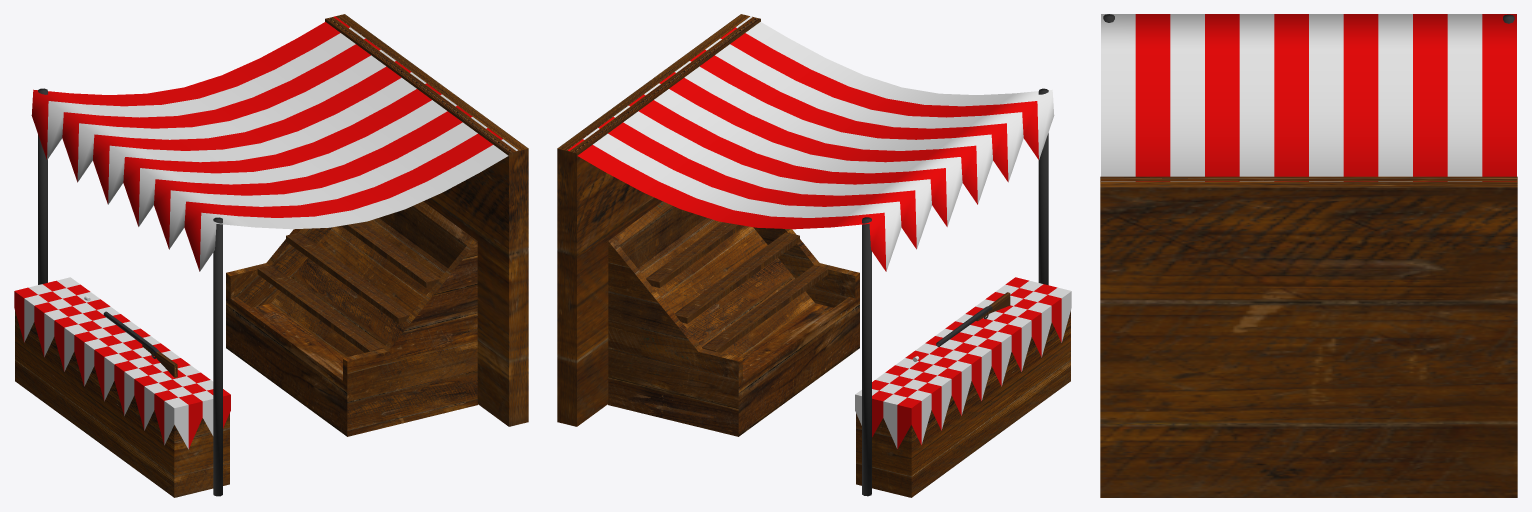
Rendered from CorkGunStand.fbx.
The picture shows the model from 3 angles, left to right: view 1: azimuth 30°, elevation 25°; view 2: azimuth 150°, elevation 25°; view 3: azimuth 270°, elevation 25°; orthographic projection. The views are drawn at different scales.
Parts seen in each view (by area): view 1: tarp, Prize stand, Booth backboard, Counter tablecloth, Counter, tarp.001, tentpole 1, shelf 2, shelf 1, shelf 3, tentpole 2, Cylinder.002; view 2: tarp, Prize stand, Booth backboard, Counter tablecloth, Counter, tarp.001, tentpole 2, shelf 2, shelf 1, shelf 3, tentpole 1, Cylinder.002; view 3: Booth backboard, tarp.
Part boxes in pixels (box(x1,y1,x2,y2)): tarp: box(33, 16, 517, 266); Prize stand: box(226, 201, 477, 436); Booth backboard: box(325, 14, 528, 426); Counter tablecloth: box(14, 277, 230, 449); Counter: box(15, 311, 229, 497); tarp.001: box(31, 90, 307, 271); tentpole 1: box(213, 217, 222, 496); shelf 2: box(286, 232, 411, 323); shelf 1: box(257, 265, 383, 352); shelf 3: box(341, 222, 439, 287); tentpole 2: box(38, 88, 47, 284); Cylinder.002: box(103, 311, 177, 377); tarp: box(568, 16, 1052, 271); Prize stand: box(608, 201, 859, 436); Booth backboard: box(557, 14, 760, 426); Counter tablecloth: box(855, 277, 1071, 449); Counter: box(856, 311, 1070, 497); tarp.001: box(845, 94, 1054, 266); tentpole 2: box(862, 217, 871, 496); shelf 2: box(674, 232, 799, 323); shelf 1: box(702, 265, 828, 352); shelf 3: box(646, 222, 744, 287); tentpole 1: box(1038, 88, 1048, 285); Cylinder.002: box(936, 292, 1010, 346); Booth backboard: box(1100, 176, 1517, 497); tarp: box(1101, 14, 1516, 181).
Size of the model in its own units: 270 by 208 by 251.
